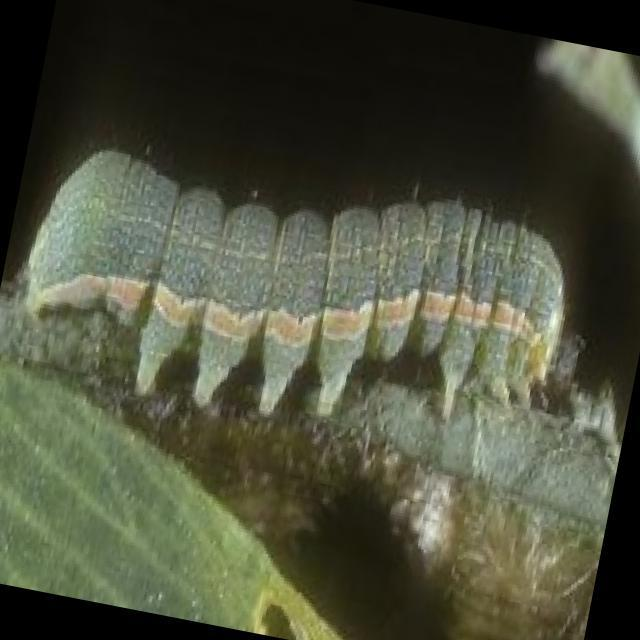Plaga: (1, 100, 604, 493)
